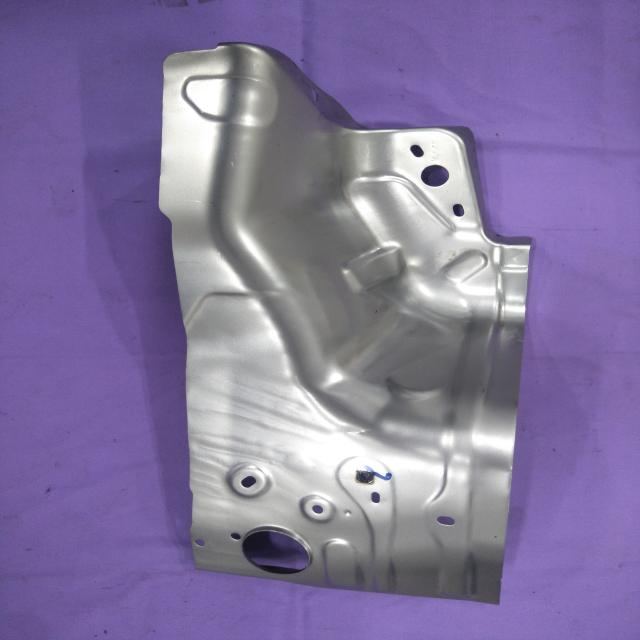Healthy: (156, 40, 533, 606)
